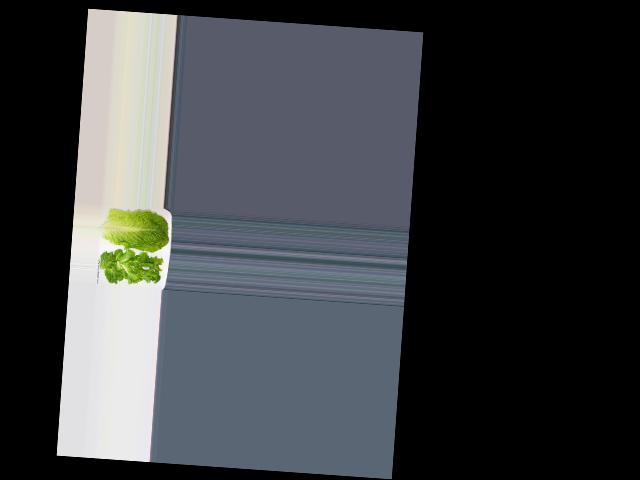lettuce: (100, 249, 163, 290)
